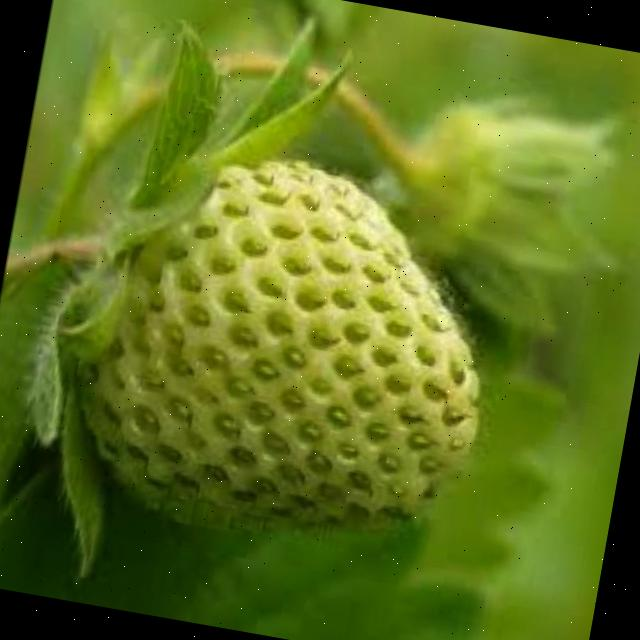strawberry: (32, 123, 517, 568)
